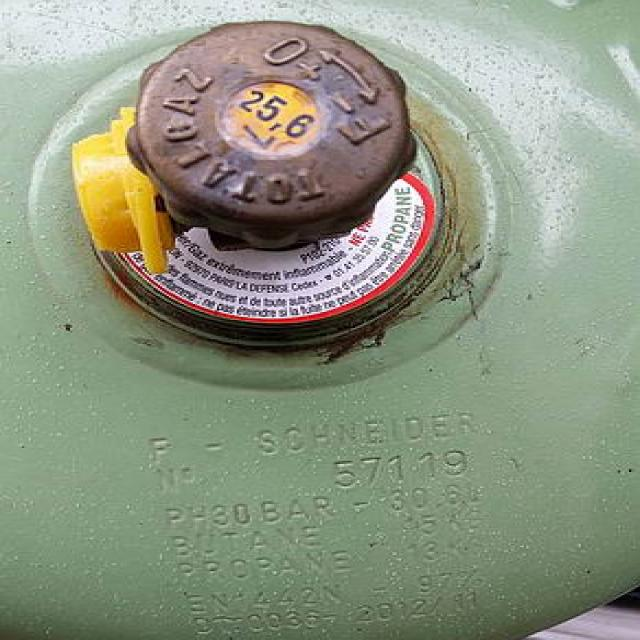ocr: (128, 408, 512, 640)
